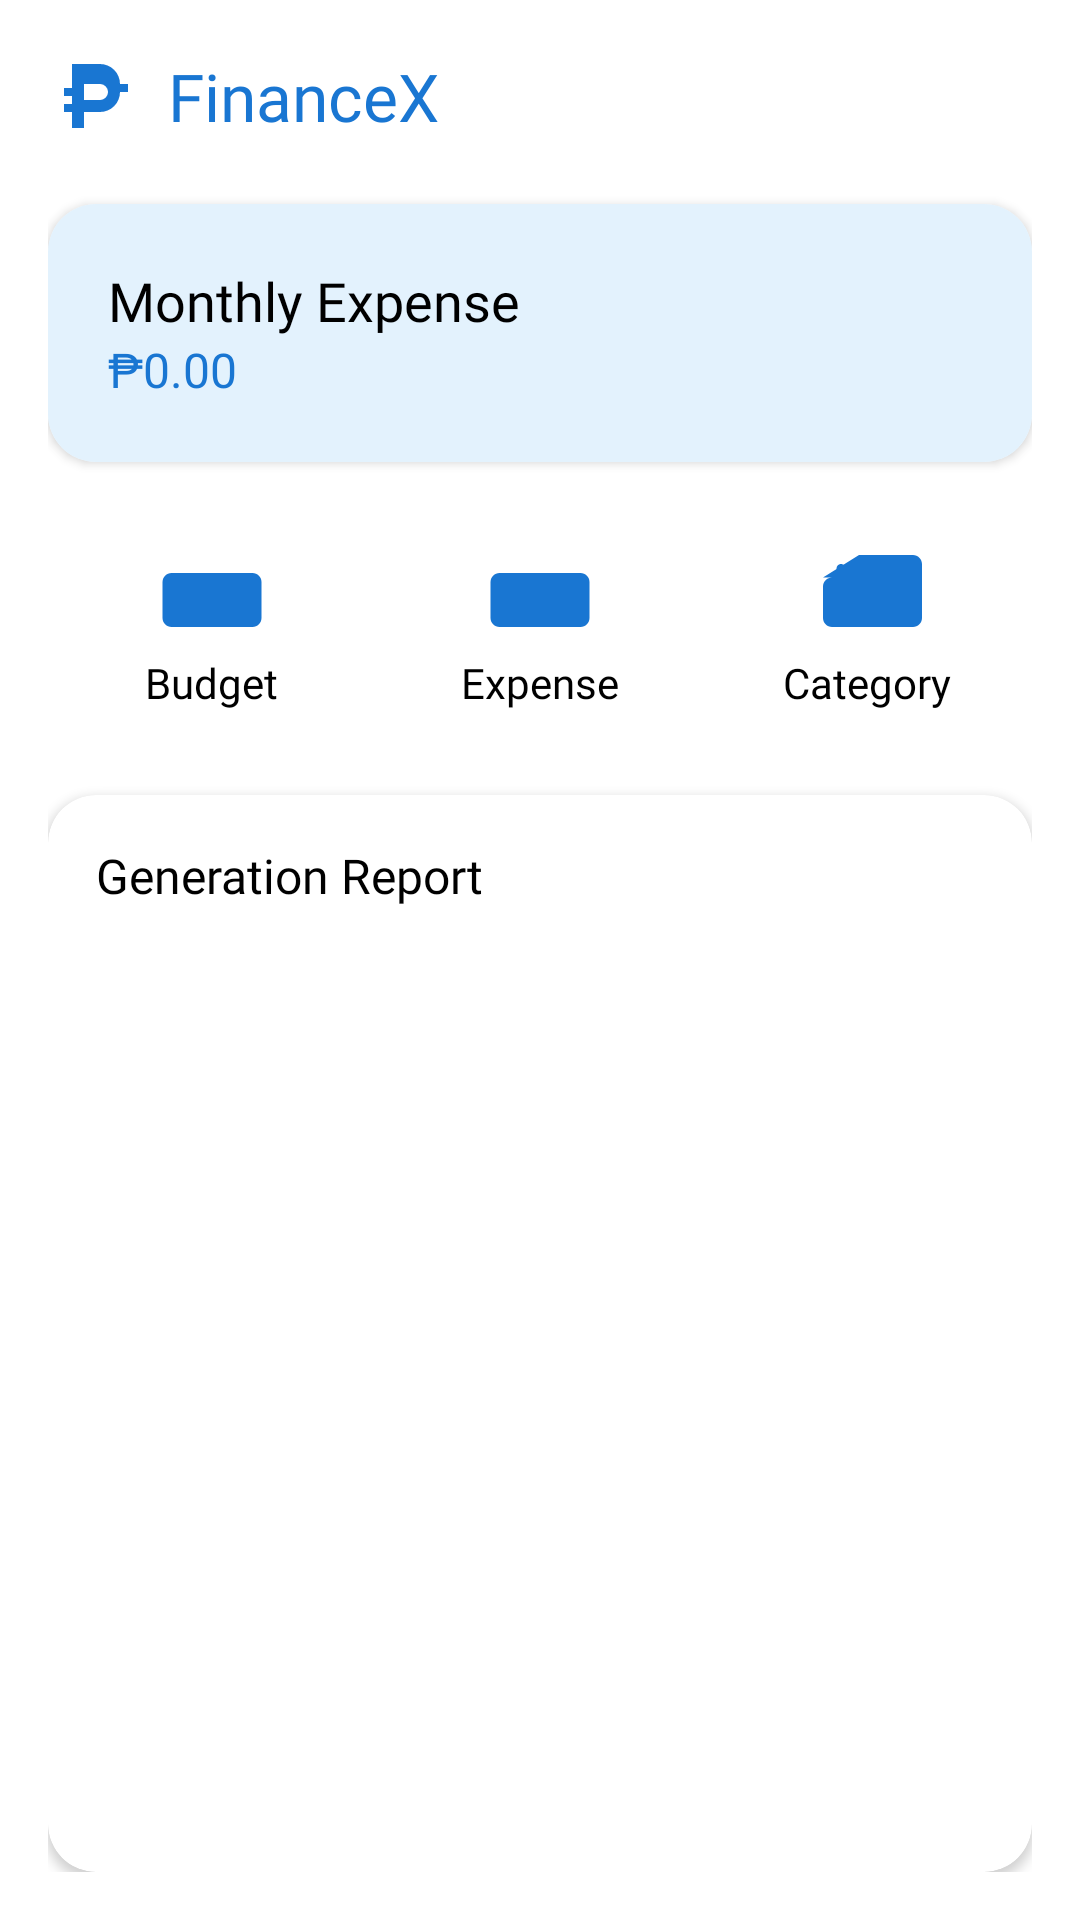

Where icons sit on this 1080w x 1920h app screen, as (left=x1, top=y1, right=x2, bottom=y2):
Peso Icon: (left=64, top=64, right=128, bottom=128)
